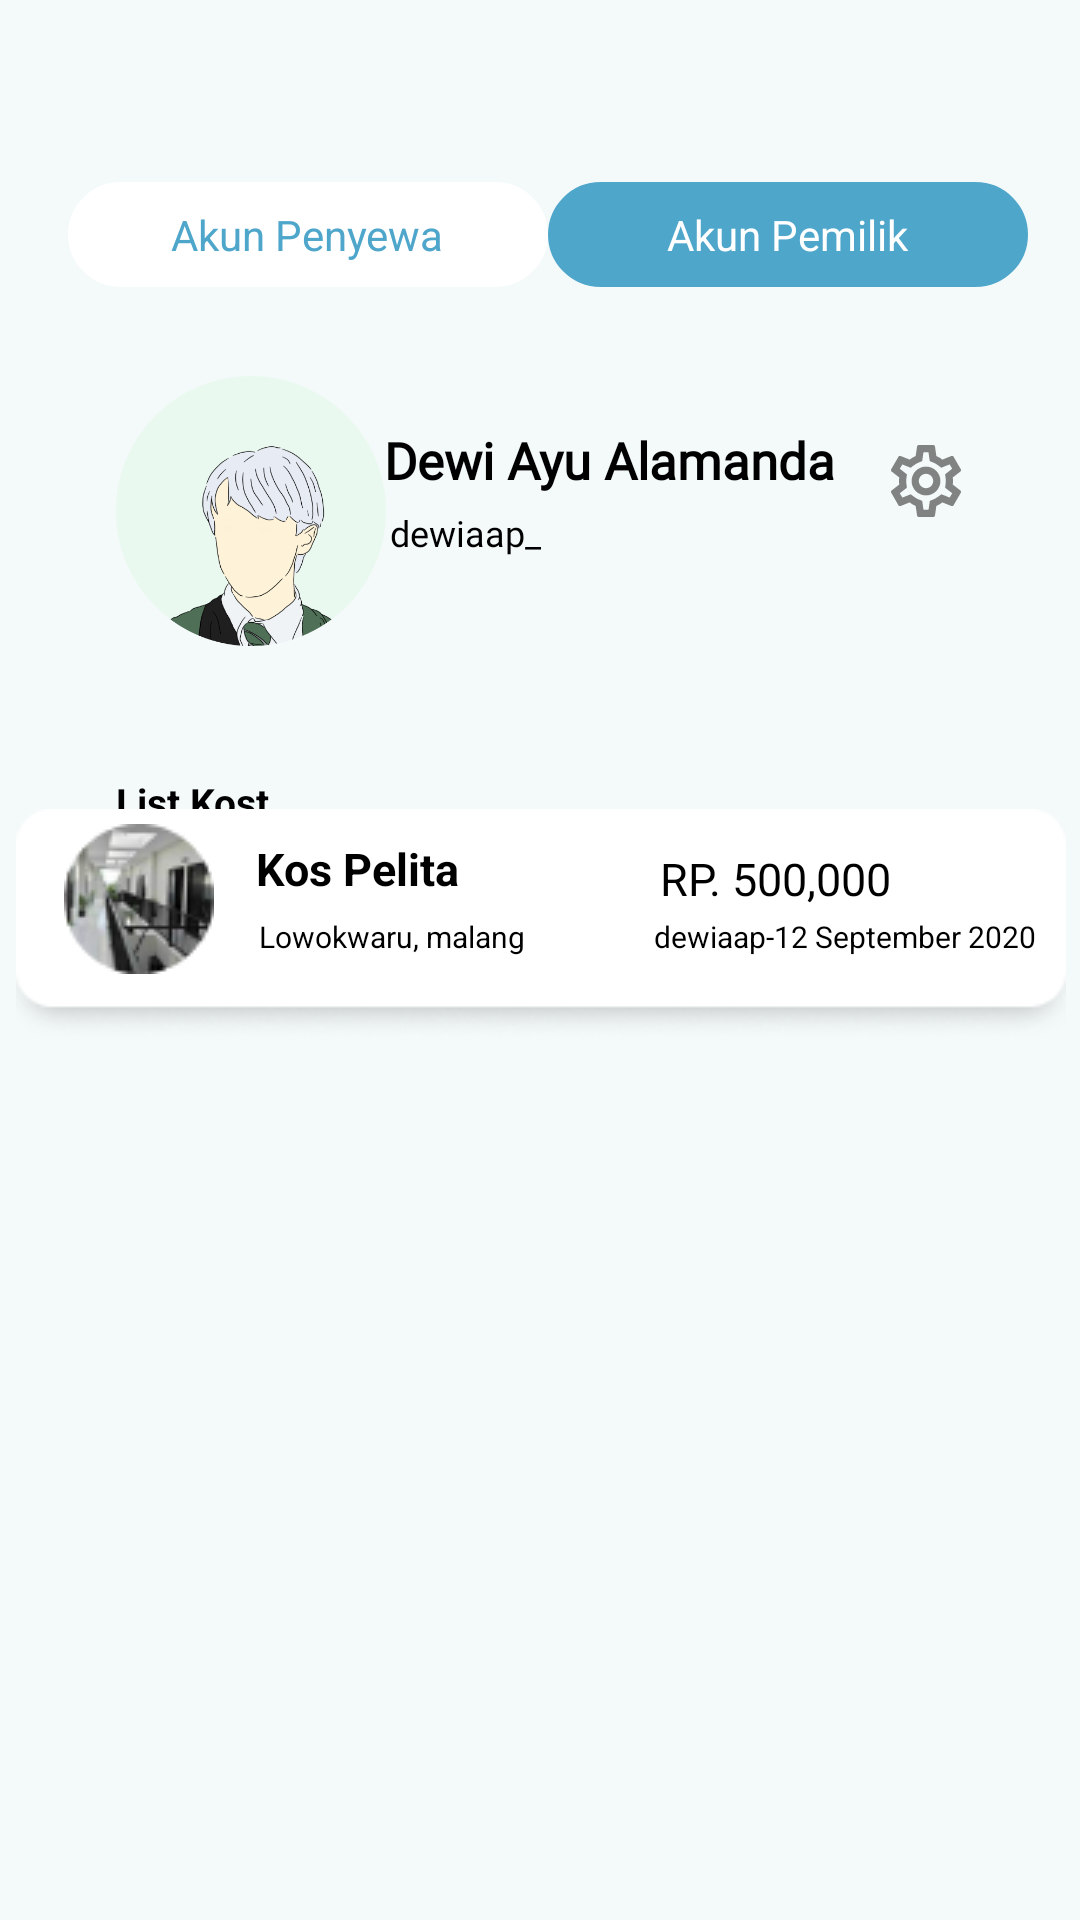

Icon click points for this 1080×1920 phone screenshot, format [x,y]:
profile: [251,511]
settings: [926,481]
